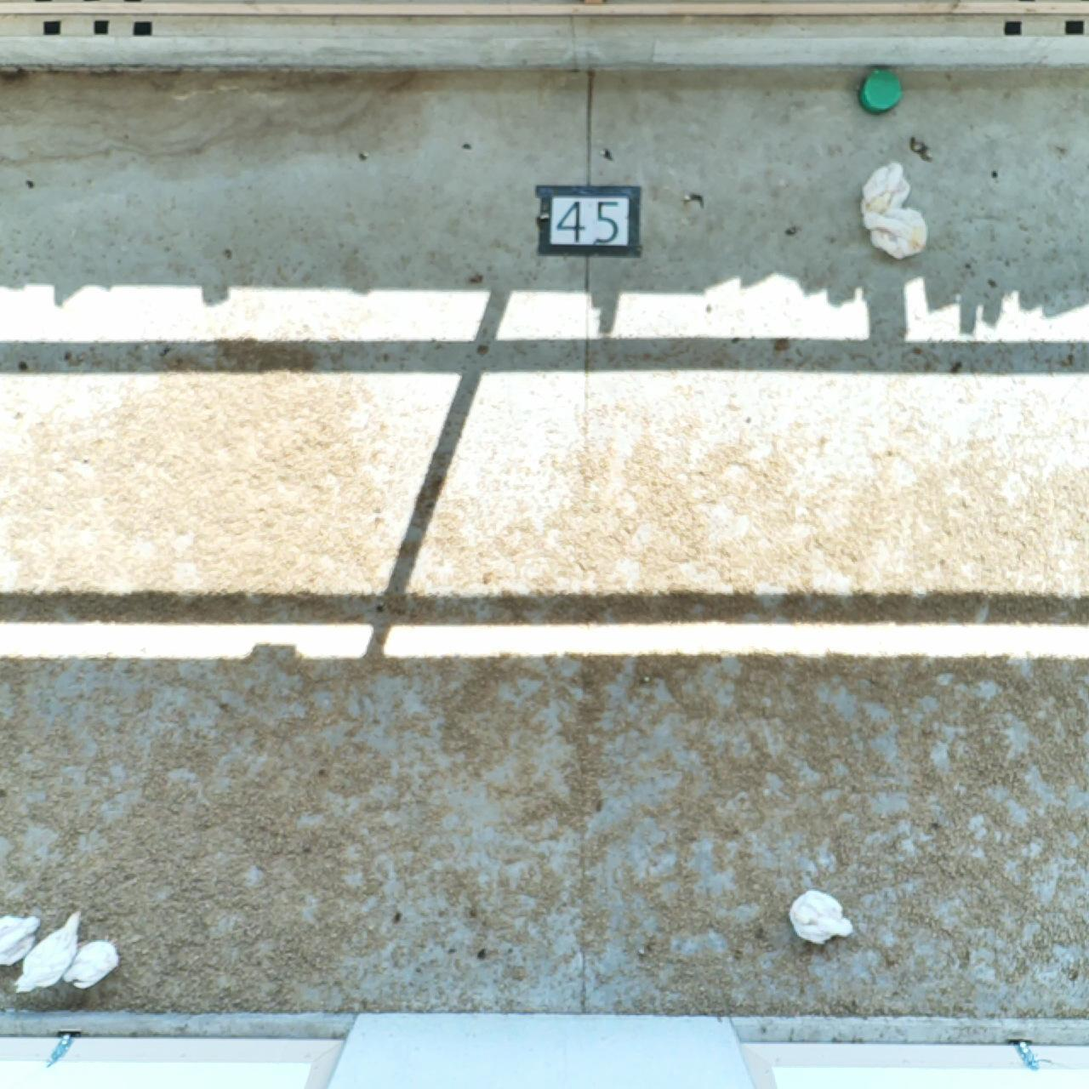chicken: (14, 909, 84, 991), (787, 886, 856, 949), (863, 205, 929, 260), (67, 940, 118, 984), (1, 915, 45, 966), (864, 162, 905, 210)
